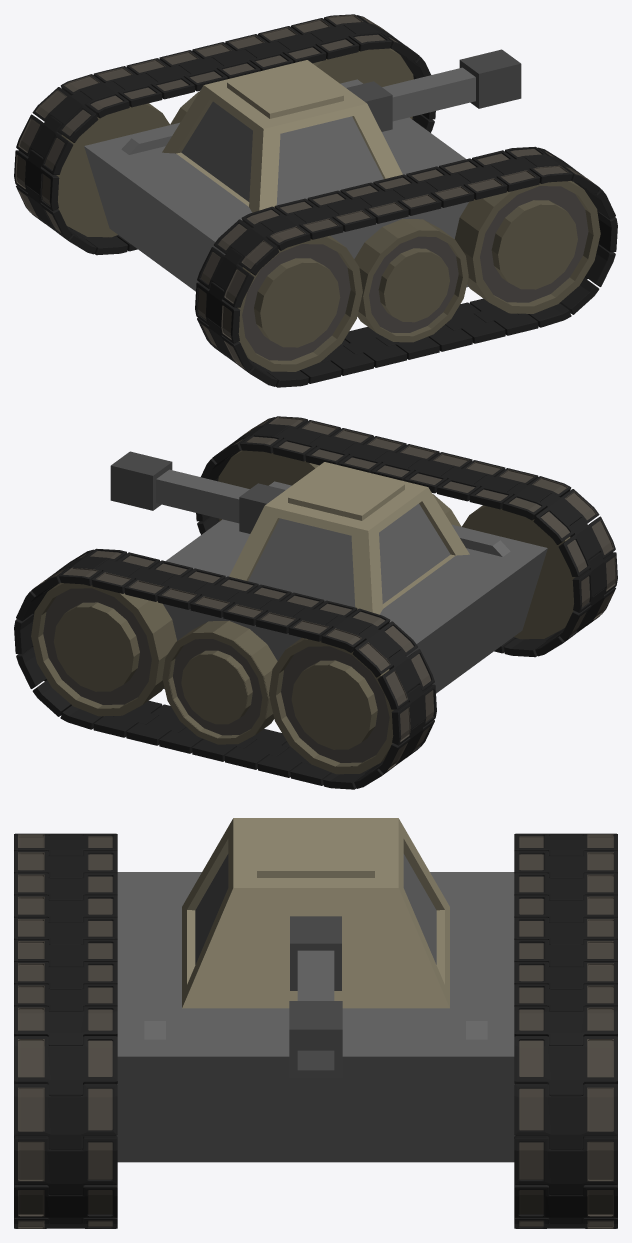
File: GreyTank.fbx
3 views of the same model, one above another, from view 1: azimuth 30°, elevation 25°; view 2: azimuth 150°, elevation 25°; view 3: azimuth 270°, elevation 25° (orthographic). The views are drawn at different scales.
Parts seen in each view (by area): view 1: Cube.004; view 2: Cube.004; view 3: Cube.004.
Boxes of the visible parts, bbox=[...] form: Cube.004: bbox=[14, 14, 617, 387]; Cube.004: bbox=[14, 416, 617, 789]; Cube.004: bbox=[14, 818, 617, 1228].
Size of the model in its own units: 197 by 94.42 by 192.
